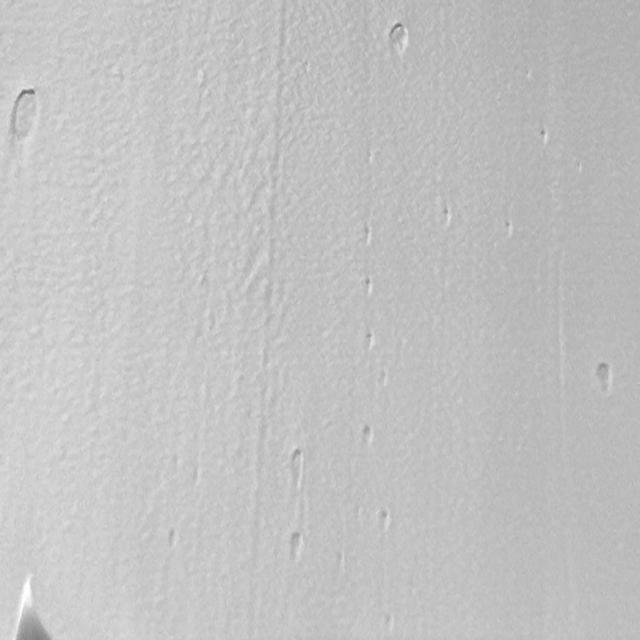pin holes: (2, 85, 45, 152), (14, 597, 62, 640), (19, 610, 54, 639), (385, 21, 410, 58), (592, 360, 616, 394), (287, 449, 306, 479), (286, 532, 304, 561), (360, 422, 378, 448), (376, 507, 393, 533), (358, 224, 376, 247), (439, 206, 456, 230), (535, 125, 552, 149), (382, 612, 399, 635), (360, 276, 376, 299), (166, 526, 180, 552), (376, 370, 391, 392), (364, 332, 376, 352), (504, 221, 516, 238)
